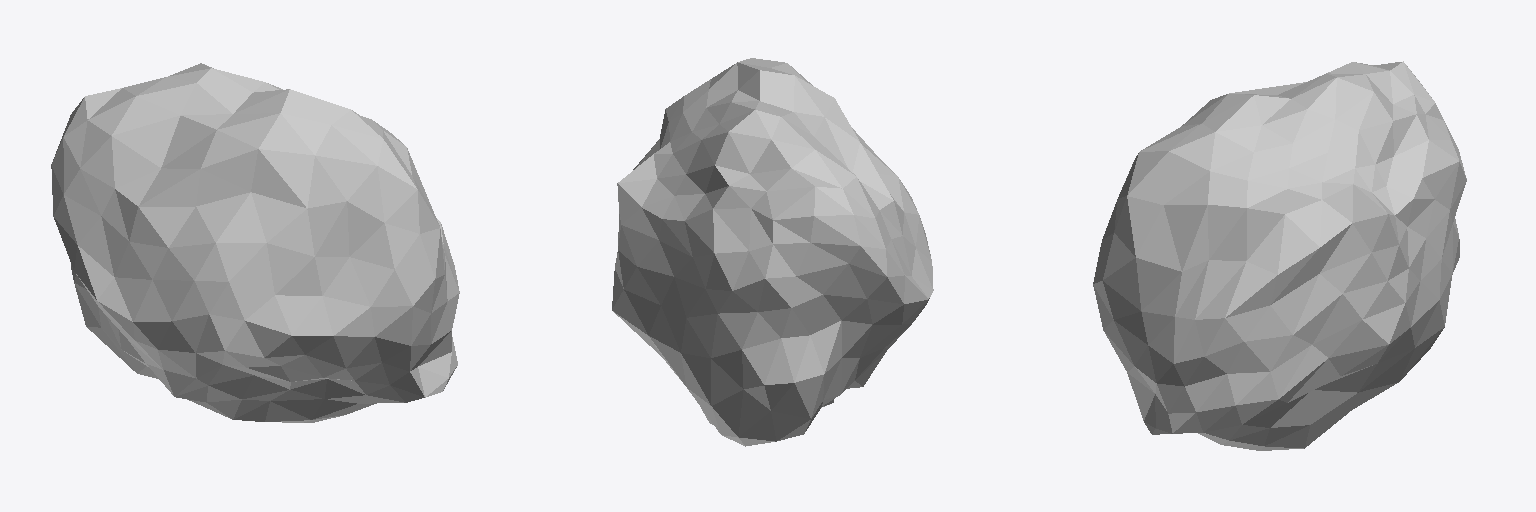
File: asteroid17.obj
The picture shows the model from 3 angles: view 1: azimuth 30°, elevation 25°; view 2: azimuth 150°, elevation 25°; view 3: azimuth 270°, elevation 25°; orthographic projection.
Parts seen in each view (by area): view 1: asteroid; view 2: asteroid; view 3: asteroid.
Part boxes in pixels (x1,y1,x2,y2): asteroid: (51,63,459,422); asteroid: (612,58,933,446); asteroid: (1093,61,1466,450).
Size of the model in its own units: 47.1 by 47.85 by 47.35.